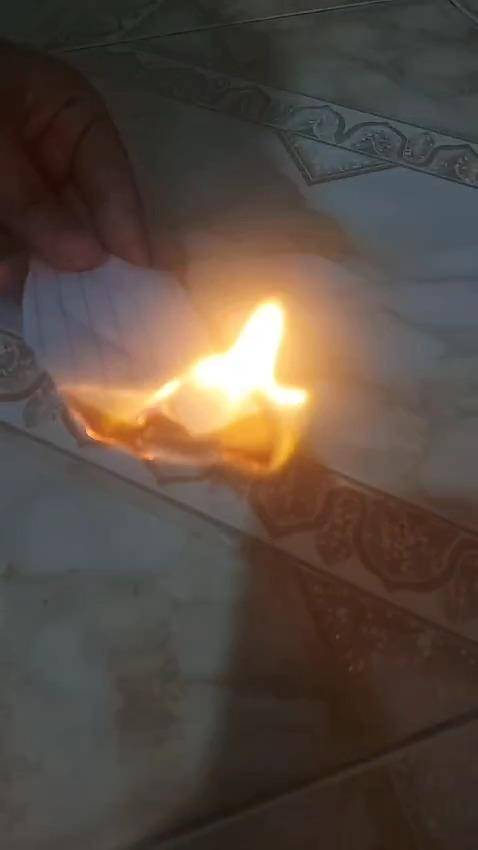Fire: (17, 286, 341, 476)
